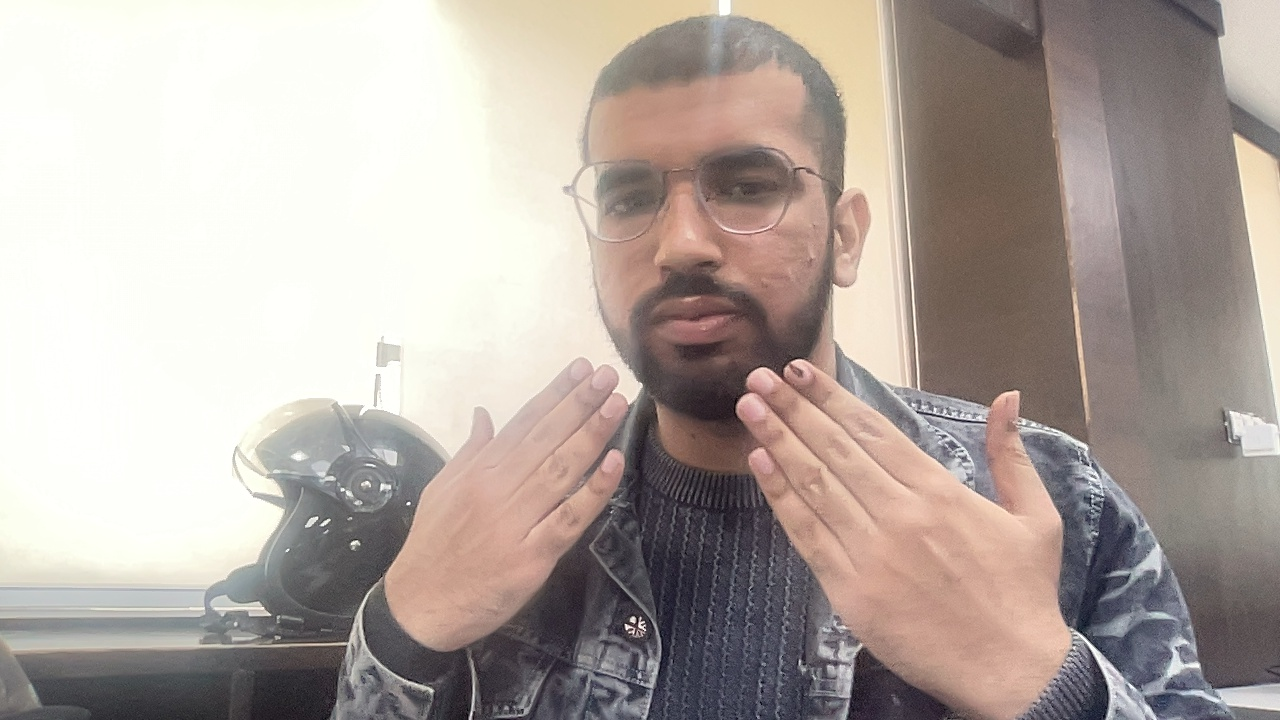Thank You: (294, 346, 1140, 684)
